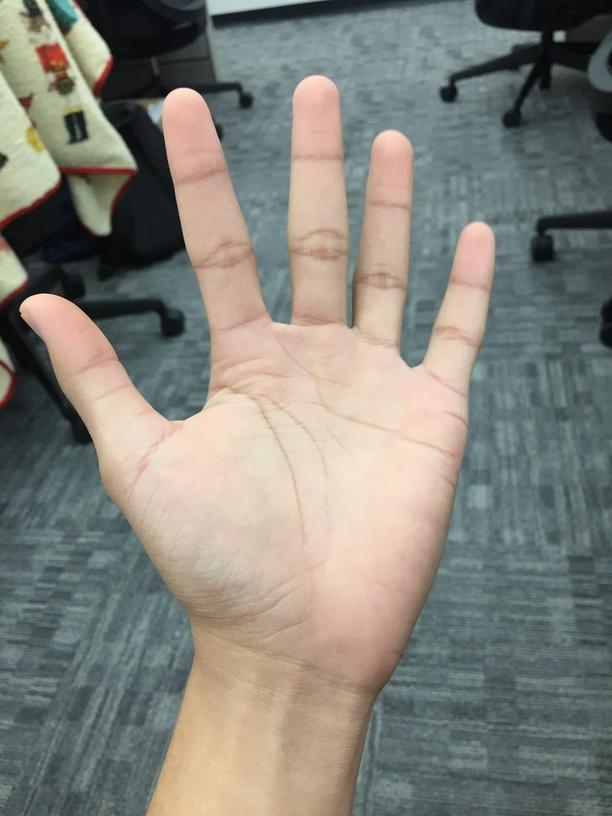hand: (18, 73, 496, 702)
